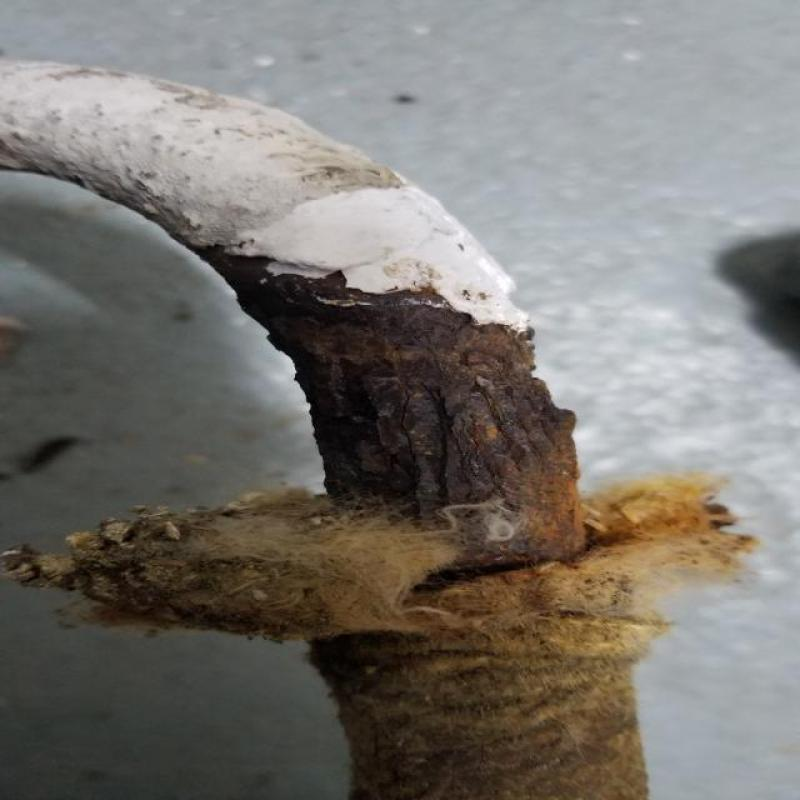corrosion: (318, 293, 578, 665)
